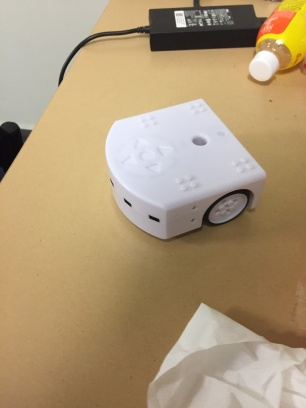thymio: (101, 95, 269, 246)
